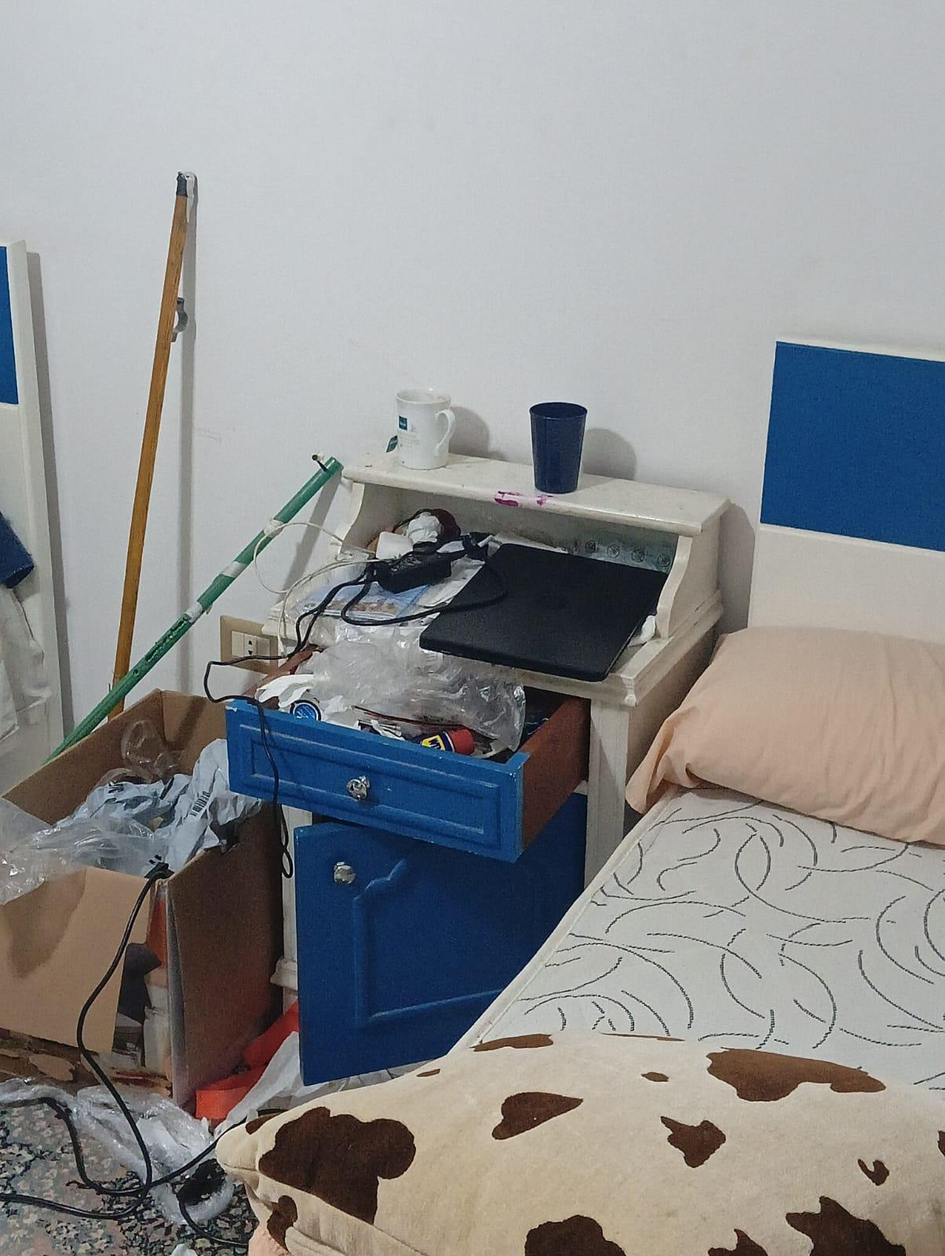cup: (530, 402, 586, 493), (396, 389, 454, 469)
